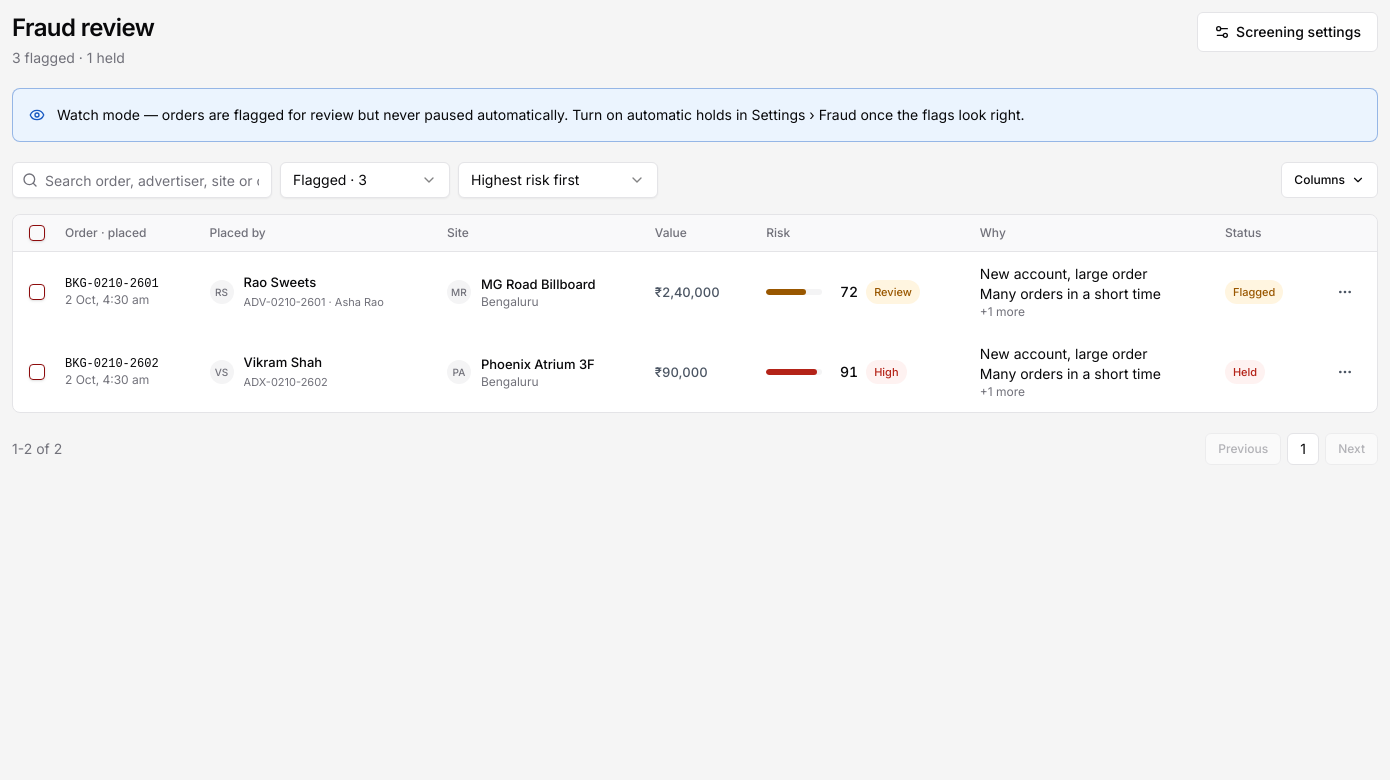
the bulk bar › offers the four moves, each off without the permission
The width and height of the screenshot is (1390, 780).
Click the checkbox named "Select all rows" at (37, 233), box [29, 225, 45, 241]
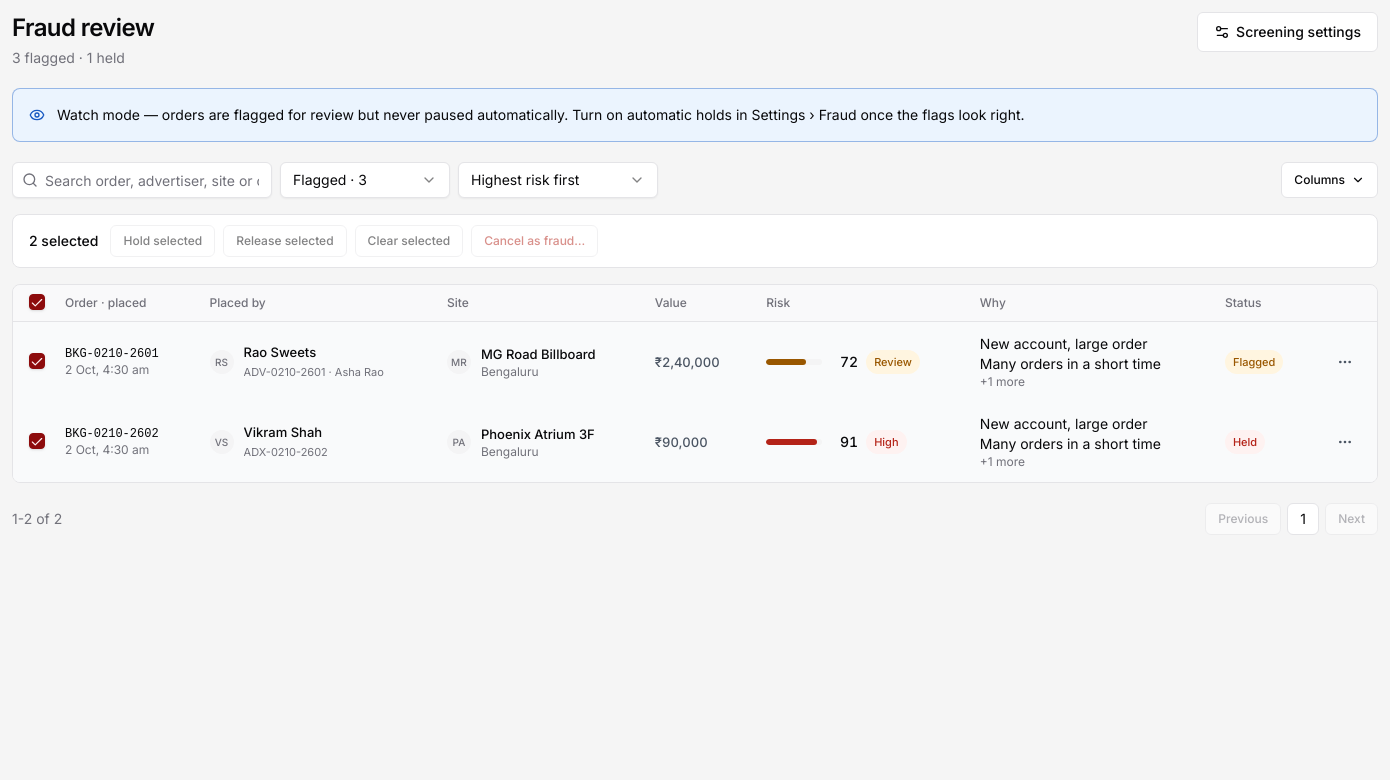
Check: the text "2 selected" is shown, box [29, 231, 98, 251]
Check: the button with test id "bulk-hold" is disabled, box [110, 225, 215, 257]
Check: the button with test id "bulk-release" is disabled, box [223, 225, 347, 257]
